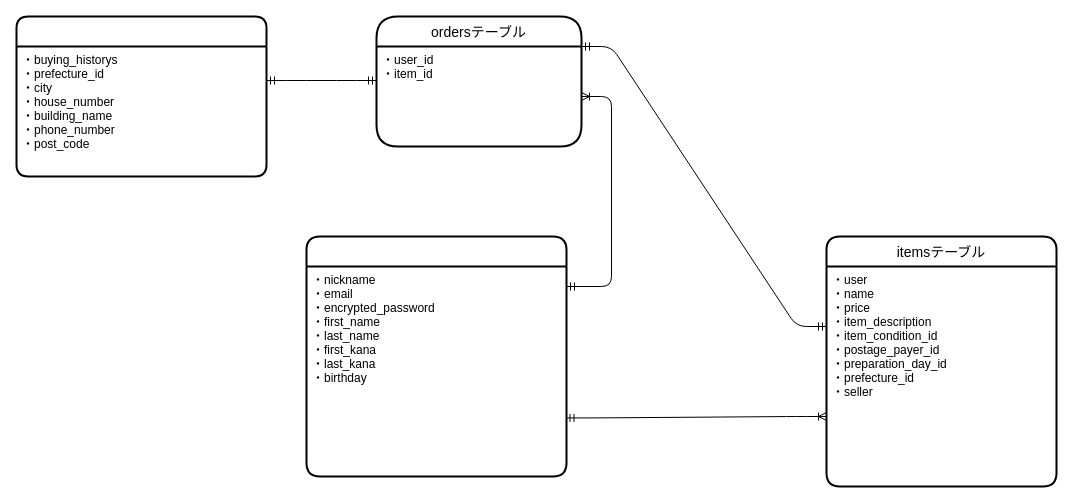
Image size: 1073x503. Some labels were removed from this diagram. Each missing label, with the box of its shape:
paymentsテーブル: (15, 15, 267, 177)
usersテーブル: (305, 235, 567, 477)
